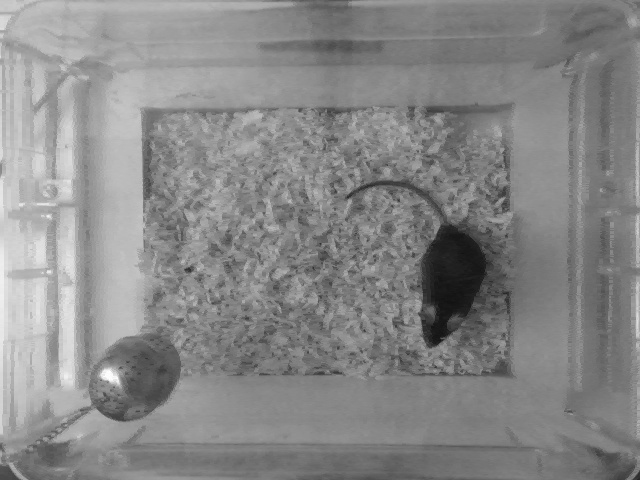mice: (344, 176, 489, 352)
